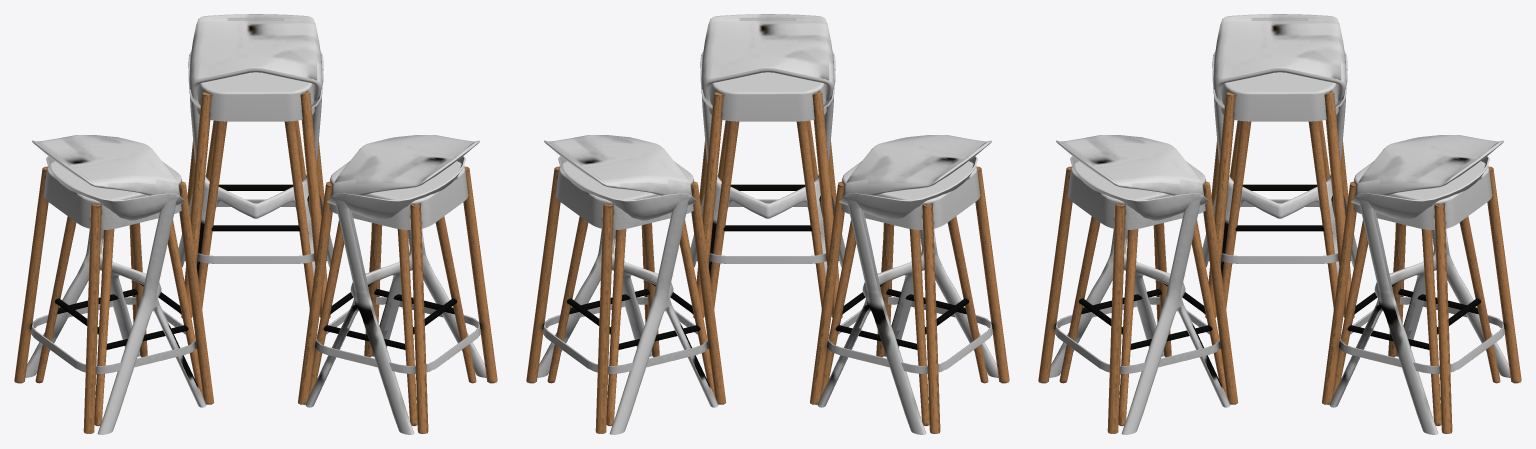
The model's file is Silla.obj.
3 renders of one model, left to right at view 1: azimuth 30°, elevation 25°; view 2: azimuth 150°, elevation 25°; view 3: azimuth 270°, elevation 25°, orthographic.
Visible parts, largest first — view 1: Silla_Miura_Mesh.010, Silla_Kansas_Mesh.004, Silla_Channel_Mesh.011; view 2: Silla_Miura_Mesh.010, Silla_Kansas_Mesh.004, Silla_Channel_Mesh.011; view 3: Silla_Miura_Mesh.010, Silla_Kansas_Mesh.004, Silla_Channel_Mesh.011.
Part boxes in pixels (<box>): Silla_Miura_Mesh.010: <box>25,14,486,434</box>; Silla_Kansas_Mesh.004: <box>14,72,497,433</box>; Silla_Channel_Mesh.011: <box>35,51,476,426</box>; Silla_Miura_Mesh.010: <box>537,14,998,434</box>; Silla_Kansas_Mesh.004: <box>526,72,1009,433</box>; Silla_Channel_Mesh.011: <box>547,51,988,426</box>; Silla_Miura_Mesh.010: <box>1049,14,1510,434</box>; Silla_Kansas_Mesh.004: <box>1038,72,1521,433</box>; Silla_Channel_Mesh.011: <box>1059,51,1500,426</box>.
Bounding box in the file's own units: 1.38 × 0.8908 × 1.58.
